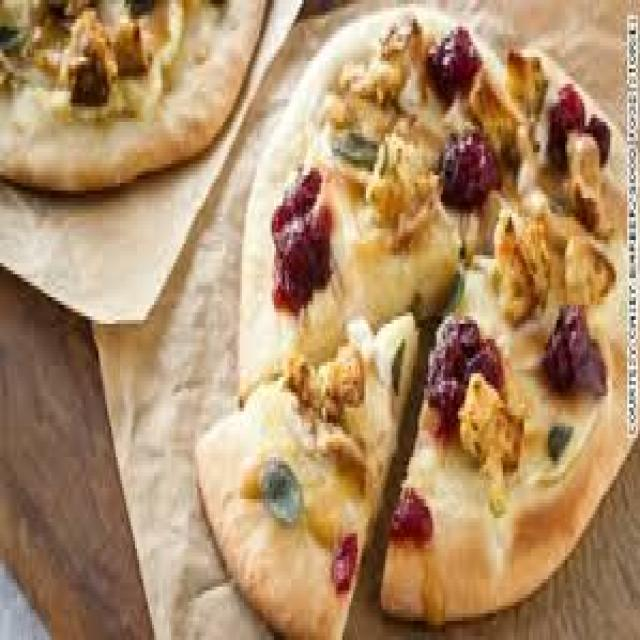organic waste: (235, 0, 638, 617), (195, 305, 419, 636), (0, 0, 270, 187), (422, 309, 501, 434), (486, 198, 552, 343), (266, 168, 328, 301), (464, 377, 528, 495), (544, 286, 606, 400), (286, 347, 374, 423), (238, 453, 312, 537), (54, 15, 124, 99), (548, 84, 608, 171), (563, 221, 619, 312), (469, 65, 520, 160), (321, 57, 394, 122), (563, 122, 606, 232), (366, 130, 422, 210), (417, 23, 484, 84), (388, 480, 434, 541), (111, 19, 163, 72), (379, 15, 437, 61), (0, 0, 39, 61), (503, 49, 542, 103), (328, 526, 353, 583)
